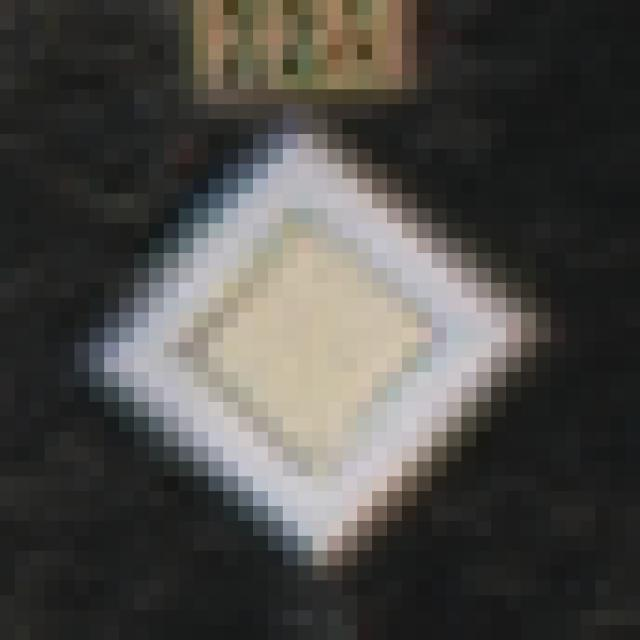Main Road: (75, 90, 552, 552)
